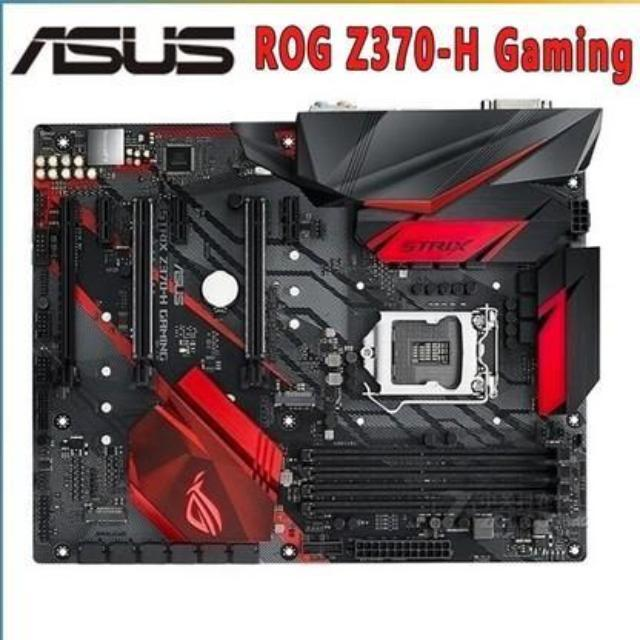Mainboard: (26, 102, 604, 570)
